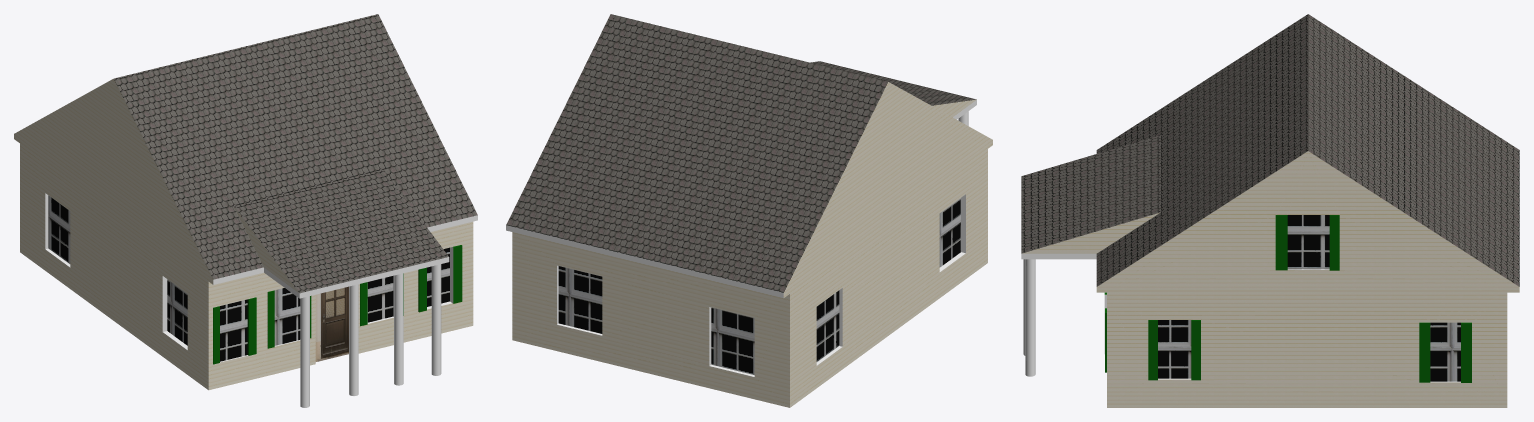
File: HouseDarien.dae
The picture shows the model from 3 angles, left to right: view 1: azimuth 30°, elevation 25°; view 2: azimuth 150°, elevation 25°; view 3: azimuth 270°, elevation 25°; orthographic projection. The views are drawn at different scales.
Parts seen in each view (by area): view 1: SketchUp (×19); view 2: SketchUp (×7); view 3: SketchUp (×14).
Part boxes in pixels (<box>): SketchUp (×19): <box>14,14,477,407</box>; SketchUp (×7): <box>506,14,992,407</box>; SketchUp (×14): <box>1021,14,1519,407</box>.
Bounding box in the file's own units: 360 × 550 × 319.
6 materials, 4 textured.
